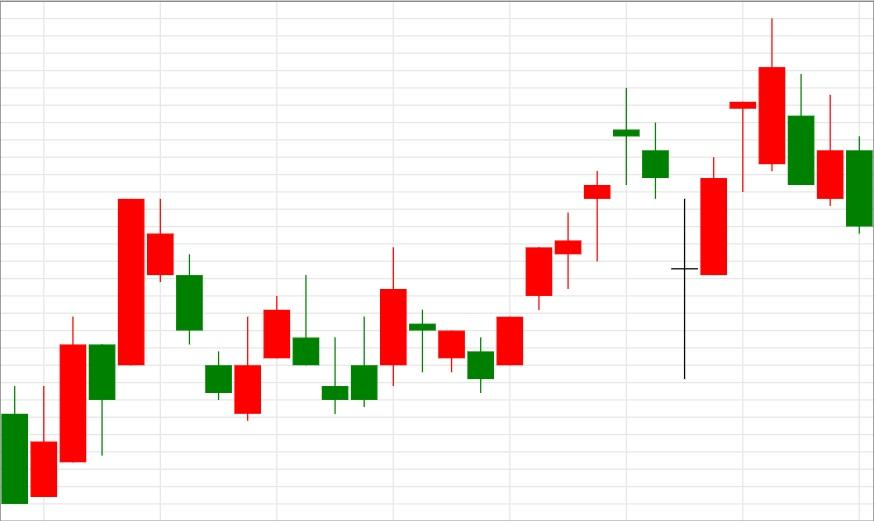bullish_engulfing_rise: (117, 197, 261, 421)
